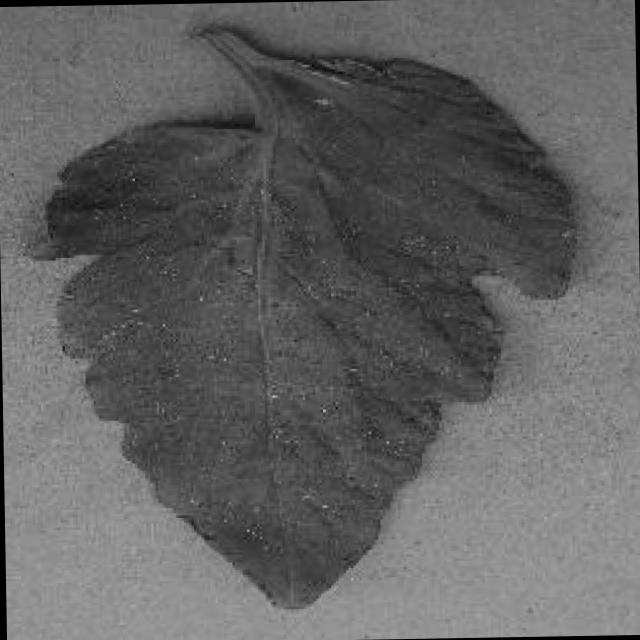bacterial spot: (19, 27, 578, 607)
